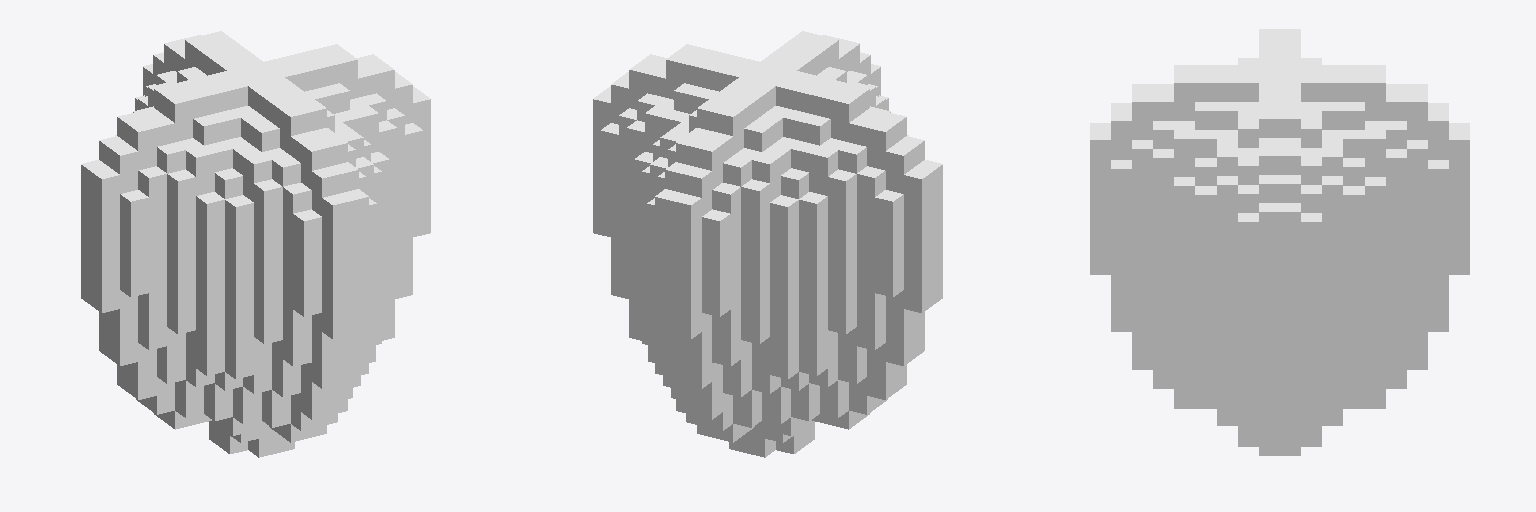
The model's file is seedpira-1.obj.
3 renders of one model, left to right at view 1: azimuth 30°, elevation 25°; view 2: azimuth 150°, elevation 25°; view 3: azimuth 270°, elevation 25°, orthographic.
Parts seen in each view (by area): view 1: object 1; view 2: object 1; view 3: object 1.
Boxes of the visible parts, x1=… form: object 1: x1=81, y1=31, x2=430, y2=457; object 1: x1=593, y1=31, x2=942, y2=457; object 1: x1=1090, y1=29, x2=1469, y2=455.
Size of the model in its own units: 1.8 by 1.9 by 1.8.